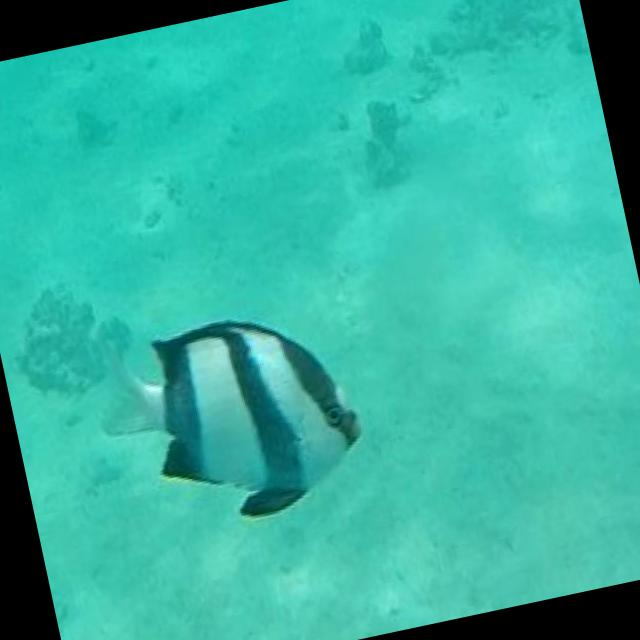Three_striped DasmselFish: (80, 292, 377, 547)
